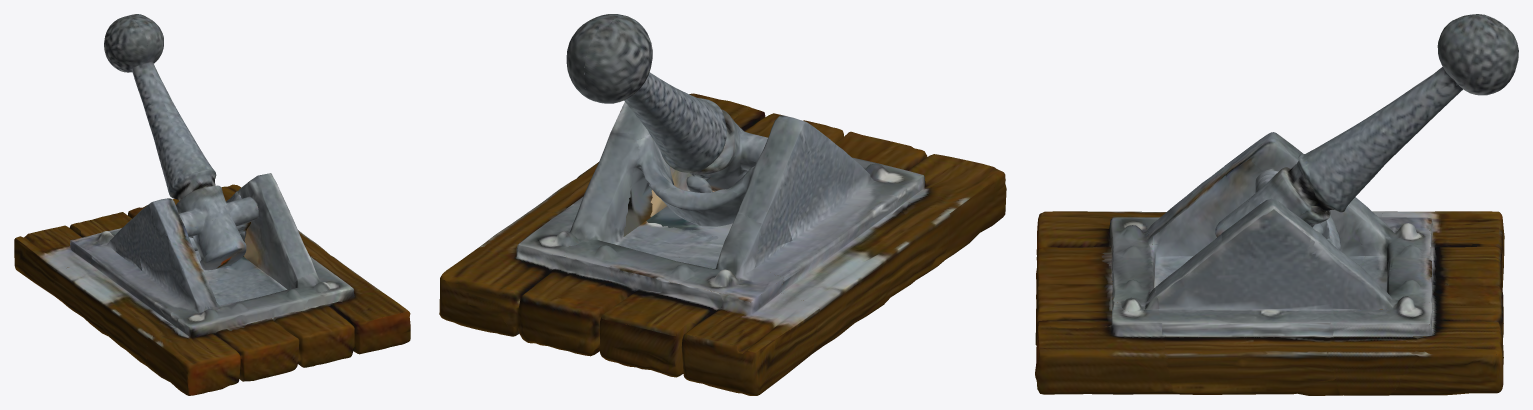
The model's file is leva.glb.
The picture shows the model from 3 angles, left to right: view 1: azimuth 30°, elevation 25°; view 2: azimuth 150°, elevation 25°; view 3: azimuth 270°, elevation 25°; orthographic projection. The views are drawn at different scales.
Visible parts, largest first — view 1: leva; view 2: leva; view 3: leva.
Part boxes in pixels (left/top/right/bottom): leva: left=14, top=14, right=410, bottom=395; leva: left=439, top=14, right=1006, bottom=395; leva: left=1035, top=14, right=1518, bottom=395.
Size of the model in its own units: 0.1914 by 0.1907 by 0.2704.
Materials: 1 (1 with a texture image).
